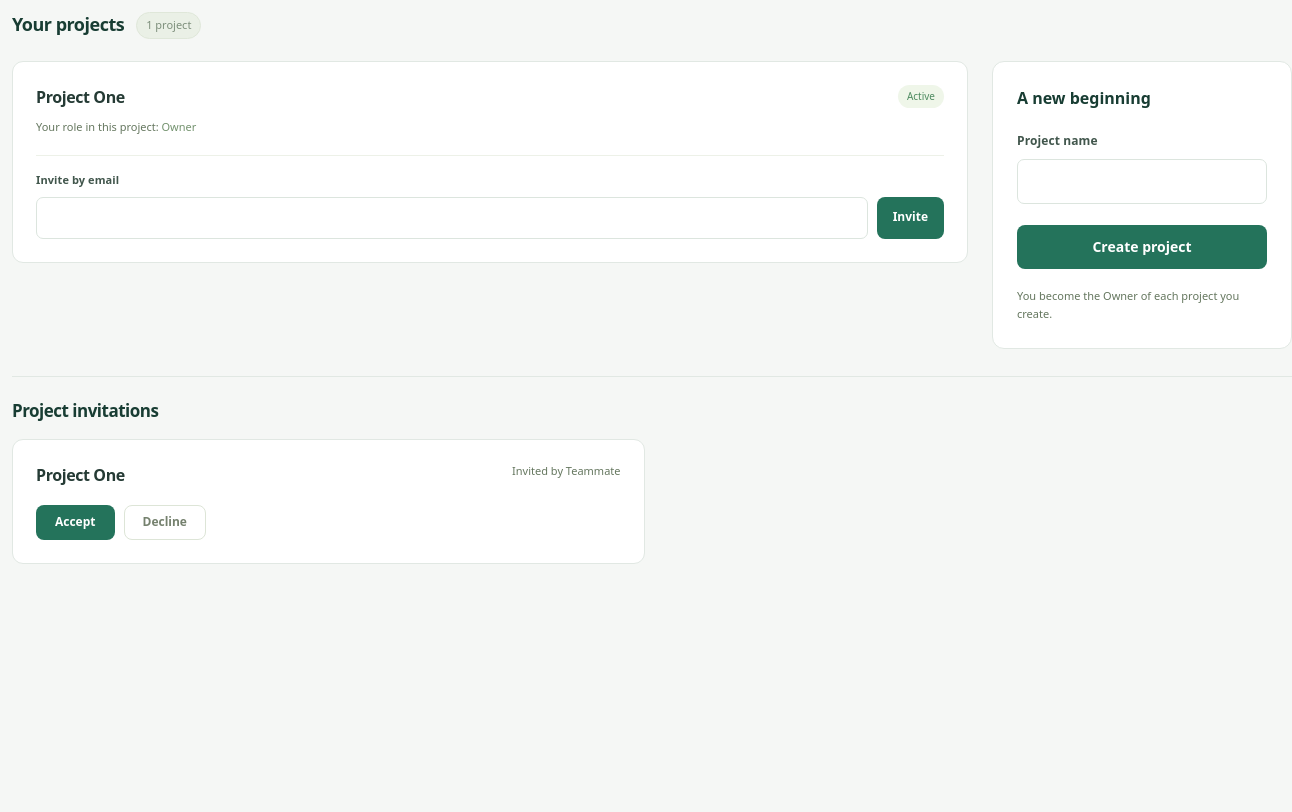
ProjectPanel invitation responses › accepts an invitation, refreshes projects, and notifies the parent
Click the button "Accept" at (75, 523), box [36,505,114,540]
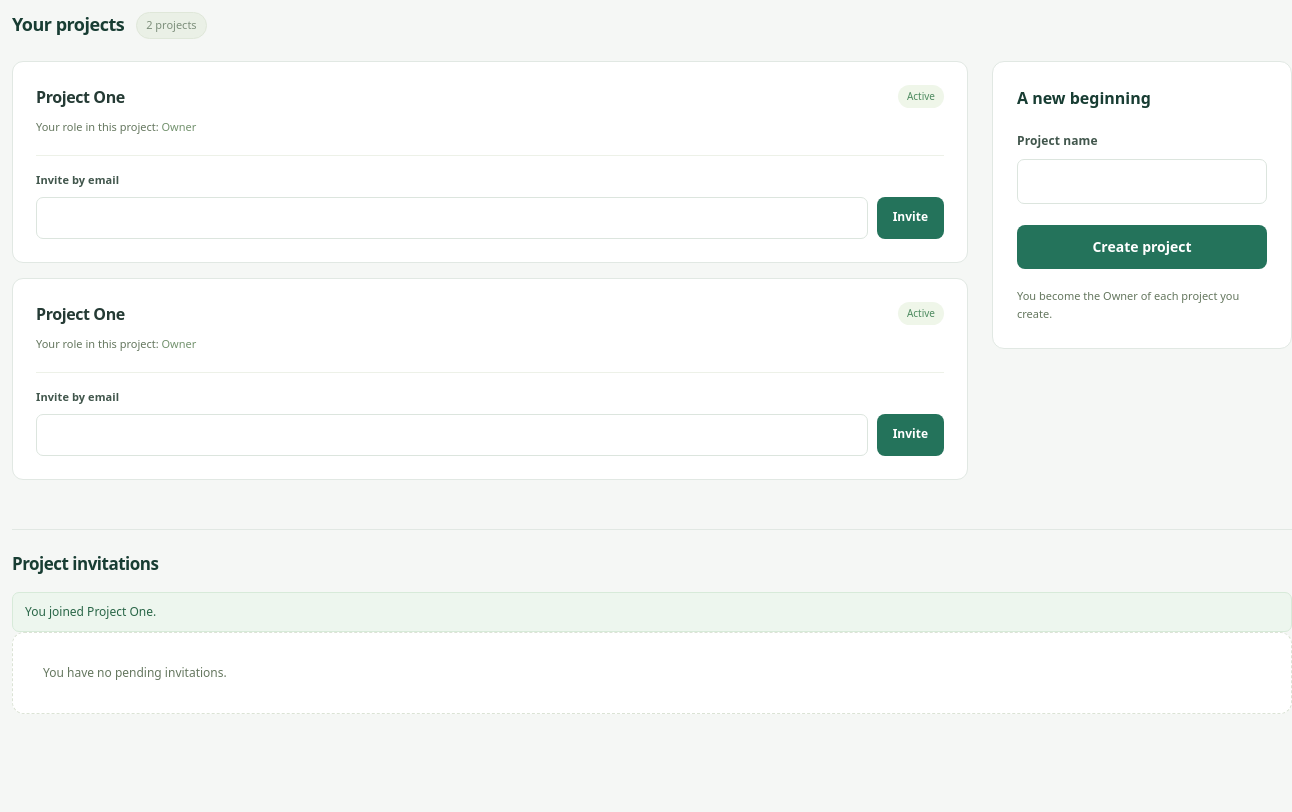
Expected: the text "You joined Project One." is shown, [12,592,1291,632]
